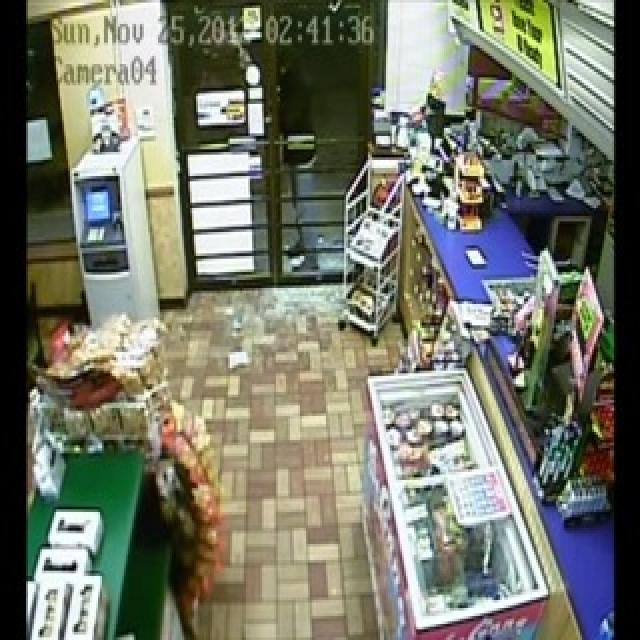thief: (275, 58, 327, 272)
